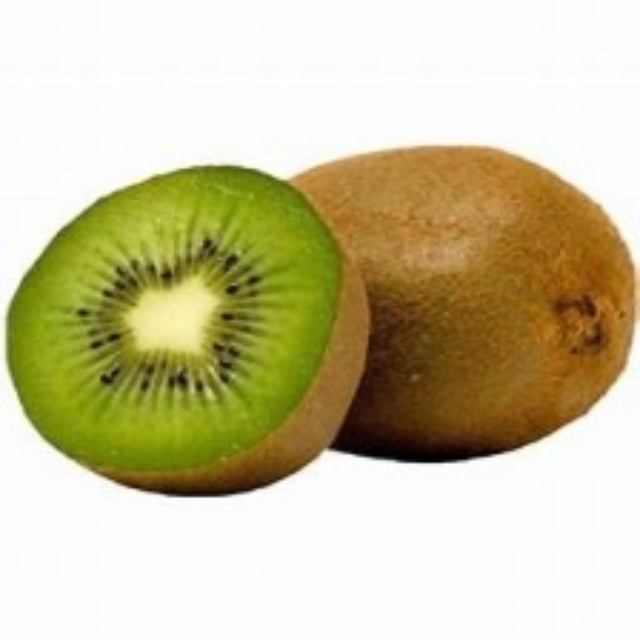kiwi: (10, 164, 360, 499), (288, 146, 639, 457)
